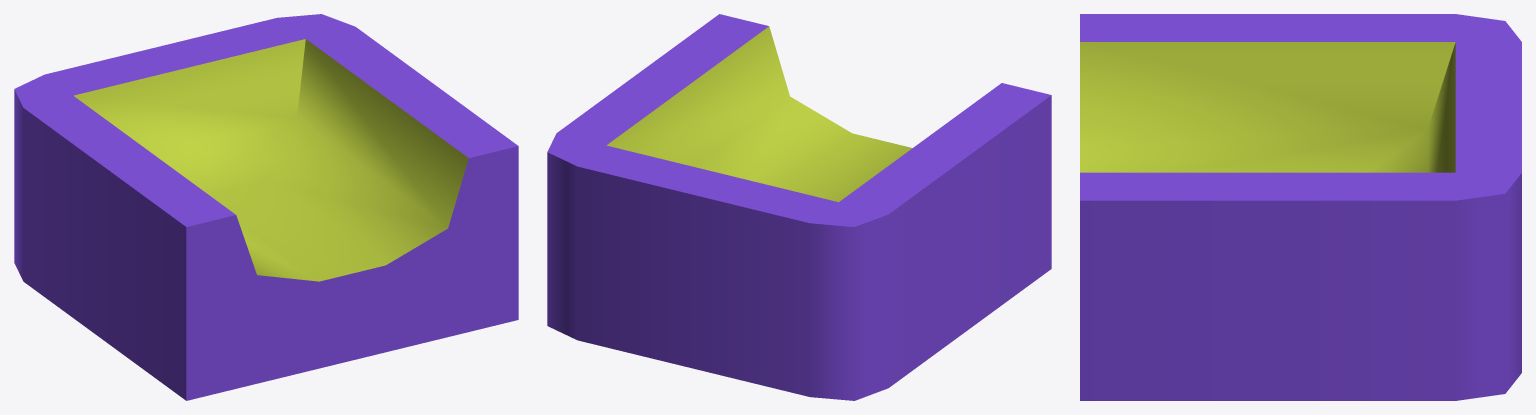
Rendered from end_rounded-col.dae.
3 renders of one model, left to right at view 1: azimuth 30°, elevation 25°; view 2: azimuth 150°, elevation 25°; view 3: azimuth 270°, elevation 25°, orthographic. The views are drawn at different scales.
Parts seen in each view (by area): view 1: end_rounded-col; view 2: end_rounded-col; view 3: end_rounded-col.
Boxes of the visible parts, left/top/right/bottom form: end_rounded-col: left=14, top=14, right=518, bottom=400; end_rounded-col: left=547, top=14, right=1051, bottom=400; end_rounded-col: left=1080, top=14, right=1521, bottom=400.
Size of the model in its own units: 1 by 1 by 0.5.
